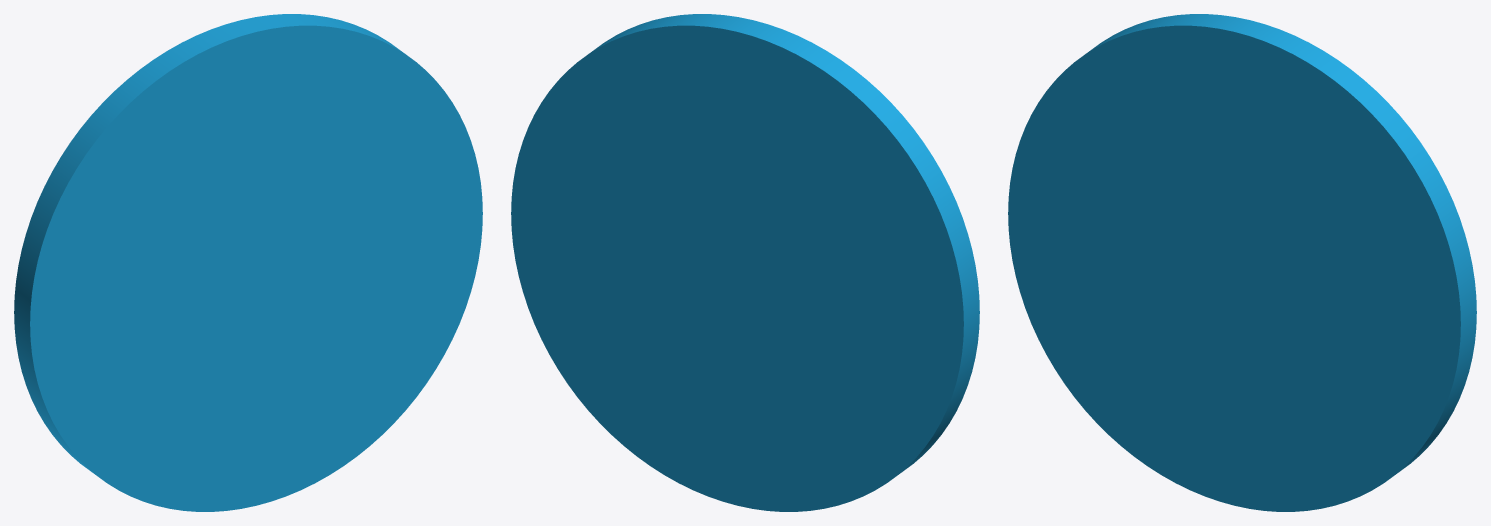
Rendered from nano_center_blue.obj.
3 renders of one model, left to right at view 1: azimuth 30°, elevation 25°; view 2: azimuth 150°, elevation 25°; view 3: azimuth 330°, elevation 25°, orthographic.
Size of the model in its own units: 0.0131 by 0.0131 by 0.0008.
1 material, 1 textured.
